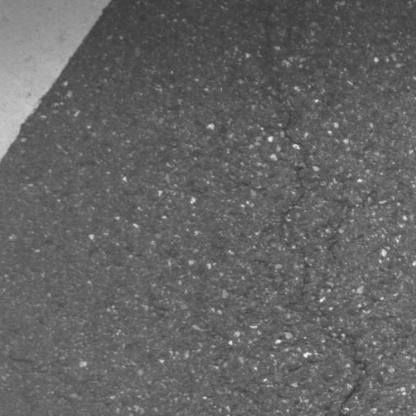Cracks: (276, 102, 315, 220), (323, 187, 381, 264), (334, 329, 373, 416), (299, 256, 310, 272)
